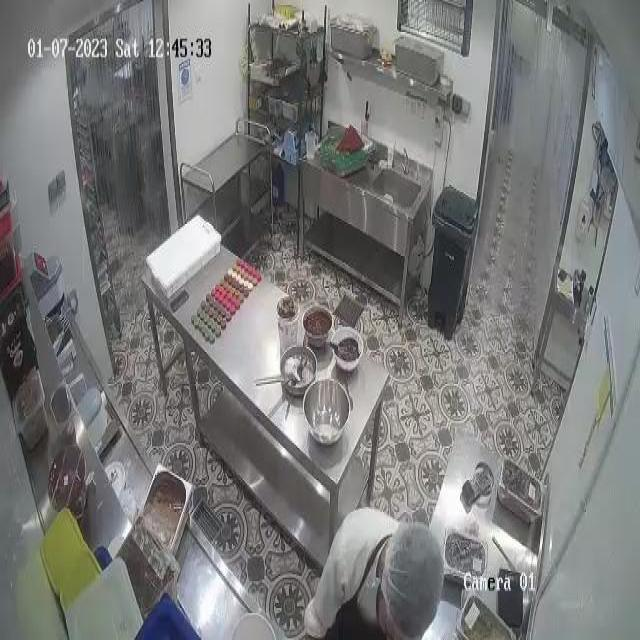hairnet: (385, 520, 444, 633)
